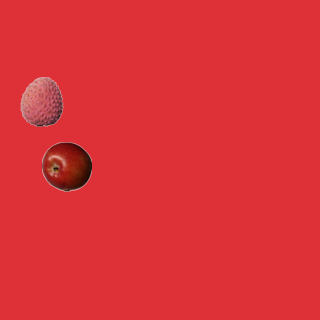Apple Braeburn: (41, 141, 91, 191)
Lychee: (16, 76, 66, 126)
